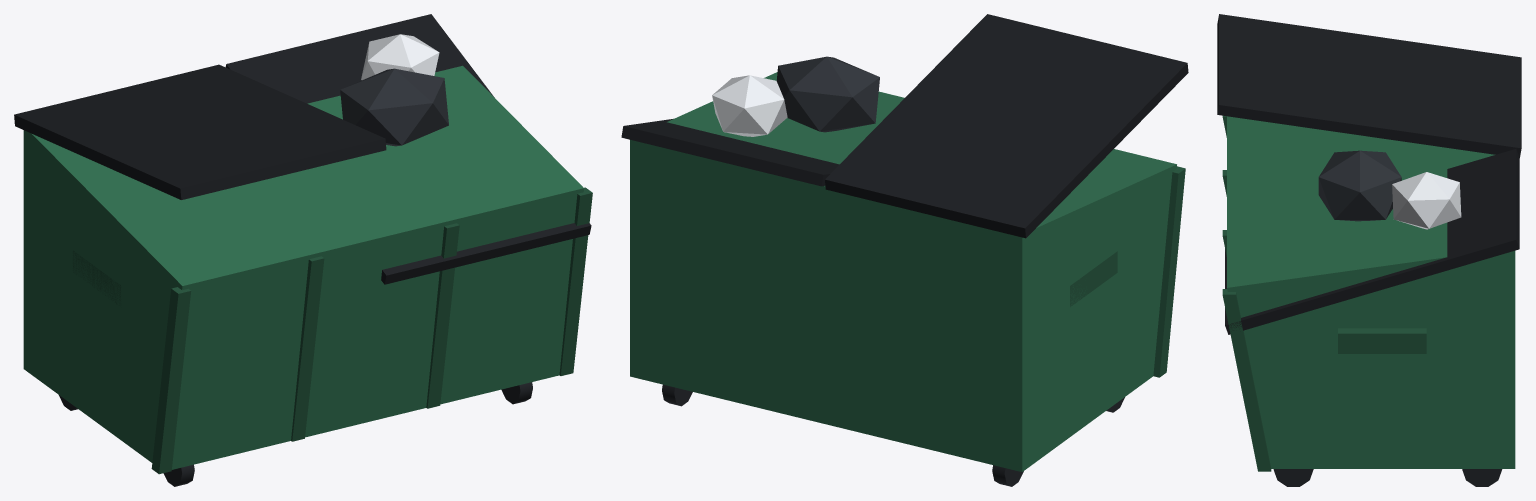
The model's file is dumpster.glb.
3 renders of one model, left to right at view 1: azimuth 30°, elevation 25°; view 2: azimuth 150°, elevation 25°; view 3: azimuth 270°, elevation 25°, orthographic. The views are drawn at different scales.
Parts seen in each view (by area): view 1: dumpster; view 2: dumpster; view 3: dumpster.
Part boxes in pixels (box(x1,y1,x2,y2)): dumpster: box(14, 14, 592, 486); dumpster: box(621, 14, 1188, 486); dumpster: box(1217, 14, 1521, 486).
Size of the model in its own units: 1.99 by 1.51 by 1.37.
